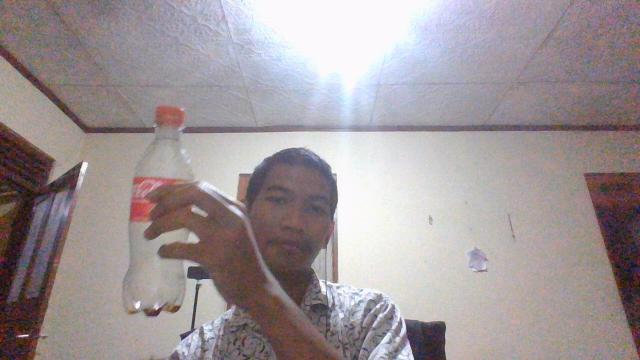coca-cola: (121, 104, 197, 317)
